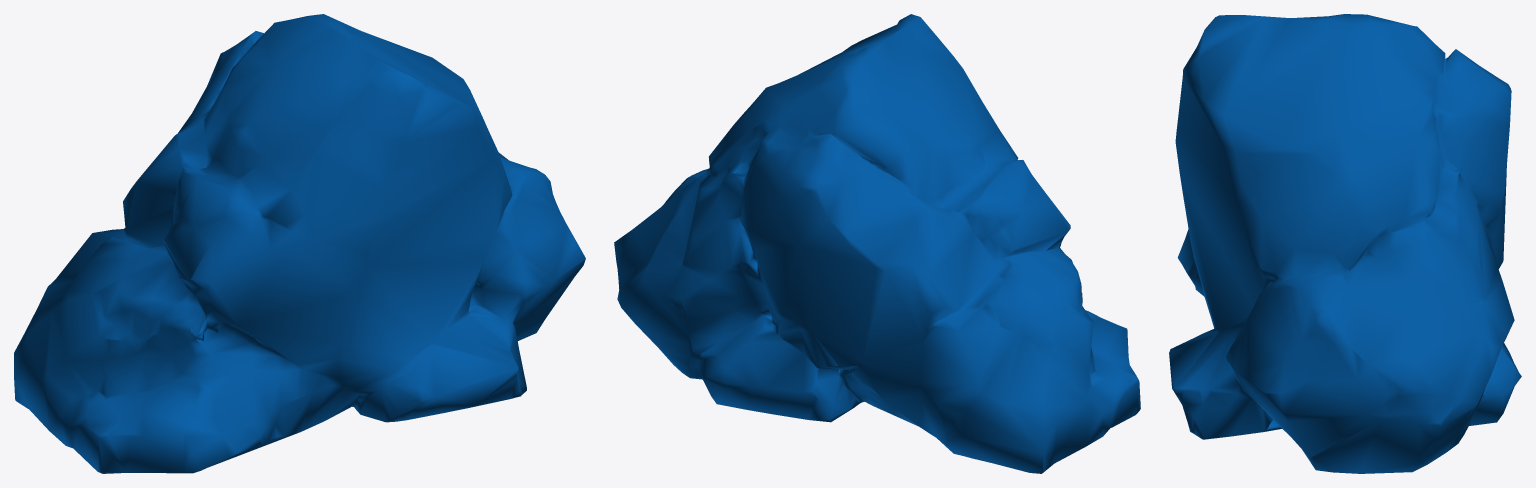
Rendered from rock_mossy_27.glb.
3 renders of one model, left to right at view 1: azimuth 30°, elevation 25°; view 2: azimuth 150°, elevation 25°; view 3: azimuth 270°, elevation 25°, orthographic. The views are drawn at different scales.
Parts seen in each view (by area): view 1: mossy_green_rock27_LOW_RES; view 2: mossy_green_rock27_LOW_RES; view 3: mossy_green_rock27_LOW_RES.
Part boxes in pixels (x1,y1,x2,y2): mossy_green_rock27_LOW_RES: (14, 14, 585, 473); mossy_green_rock27_LOW_RES: (614, 14, 1140, 473); mossy_green_rock27_LOW_RES: (1169, 14, 1521, 473).
Size of the model in its own units: 0.9999 by 0.6676 by 0.5794.
1 material, 1 textured.
